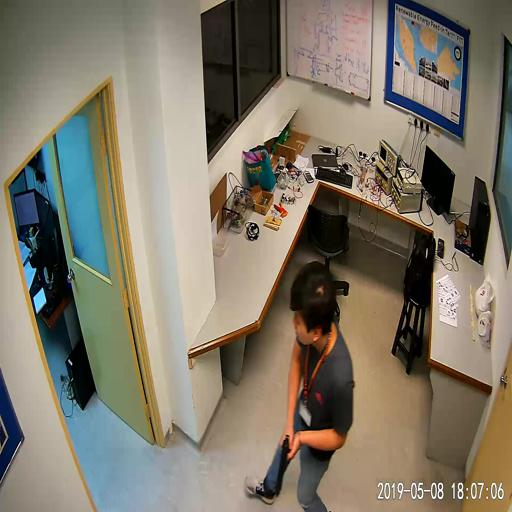pistol: (275, 434, 290, 496)
